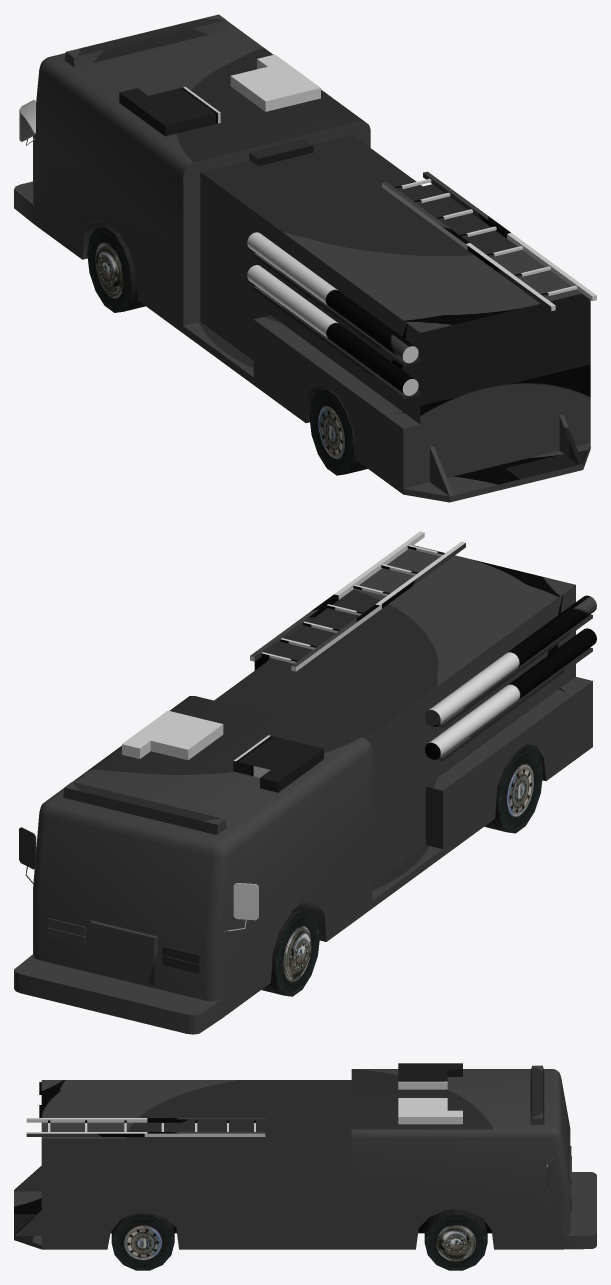
Rendered from fire_truck.fbx.
3 renders of one model, top to bottom at view 1: azimuth 30°, elevation 25°; view 2: azimuth 150°, elevation 25°; view 3: azimuth 270°, elevation 25°, orthographic. The views are drawn at different scales.
Visible parts, largest first — view 1: camion_bomberos_bomberbase_0, camion_bomberos_bombruedafron_0, camion_bomberos_bomruedaback_0, camion_bomberos_bombllanta_0; view 2: camion_bomberos_bomberbase_0, camion_bomberos_bombruedafron_0, camion_bomberos_bomruedaback_0, camion_bomberos_bombllanta_0; view 3: camion_bomberos_bomberbase_0, camion_bomberos_bombruedafron_0, camion_bomberos_bomruedaback_0, camion_bomberos_bombllanta_0.
Boxes of the visible parts, <box> form: camion_bomberos_bomberbase_0: <box>14,14,596,502</box>; camion_bomberos_bombruedafron_0: <box>87,226,131,312</box>; camion_bomberos_bomruedaback_0: <box>309,389,353,475</box>; camion_bomberos_bombllanta_0: <box>98,224,367,474</box>; camion_bomberos_bomberbase_0: <box>14,531,596,1034</box>; camion_bomberos_bombruedafron_0: <box>275,910,319,996</box>; camion_bomberos_bomruedaback_0: <box>498,747,542,833</box>; camion_bomberos_bombllanta_0: <box>261,745,532,995</box>; camion_bomberos_bomberbase_0: <box>14,1063,596,1249</box>; camion_bomberos_bombruedafron_0: <box>424,1215,487,1270</box>; camion_bomberos_bomruedaback_0: <box>111,1215,174,1270</box>; camion_bomberos_bombllanta_0: <box>111,1209,487,1242</box>.
Bounding box in the file's own units: 25.71 × 21.62 × 77.23.
